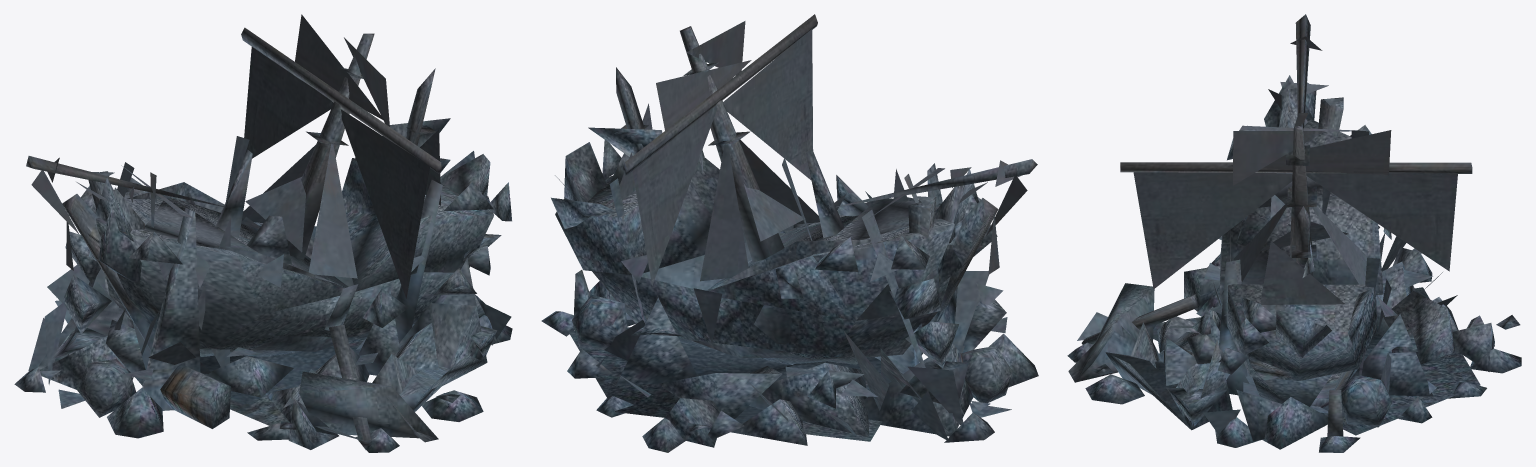
File: wreck.glb
The picture shows the model from 3 angles, left to right: view 1: azimuth 30°, elevation 25°; view 2: azimuth 150°, elevation 25°; view 3: azimuth 270°, elevation 25°; orthographic projection. The views are drawn at different scales.
Size of the model in its own units: 1 by 0.6367 by 0.9355.
1 material, 1 textured.
